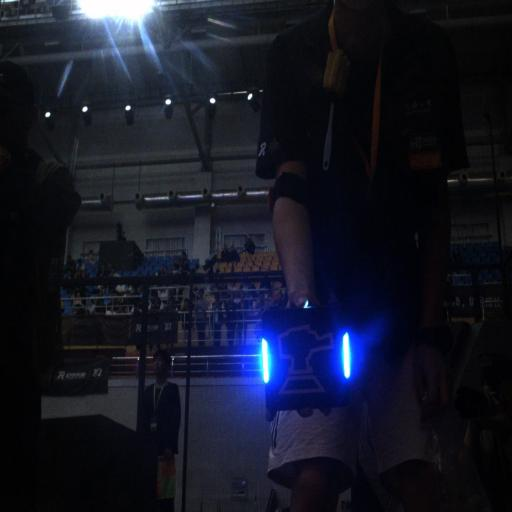target: (258, 313, 360, 411)
